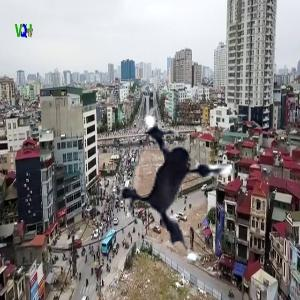drone: (94, 93, 276, 275)
